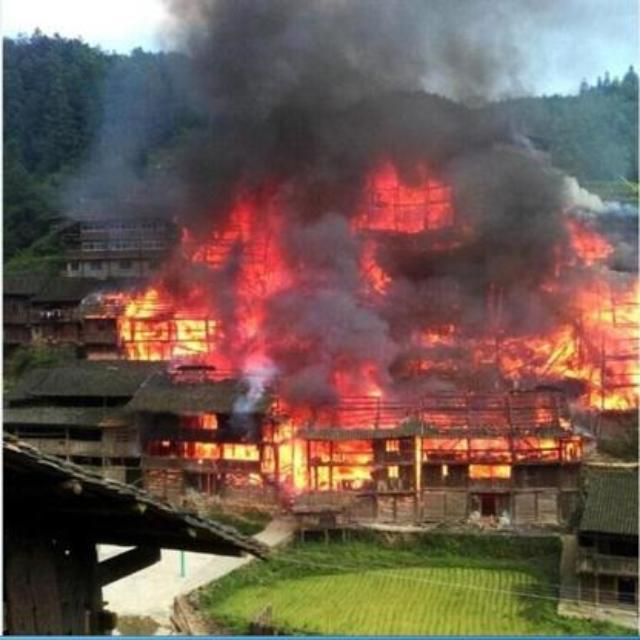Fire: (120, 153, 640, 492)
Smoke: (200, 10, 530, 172)
